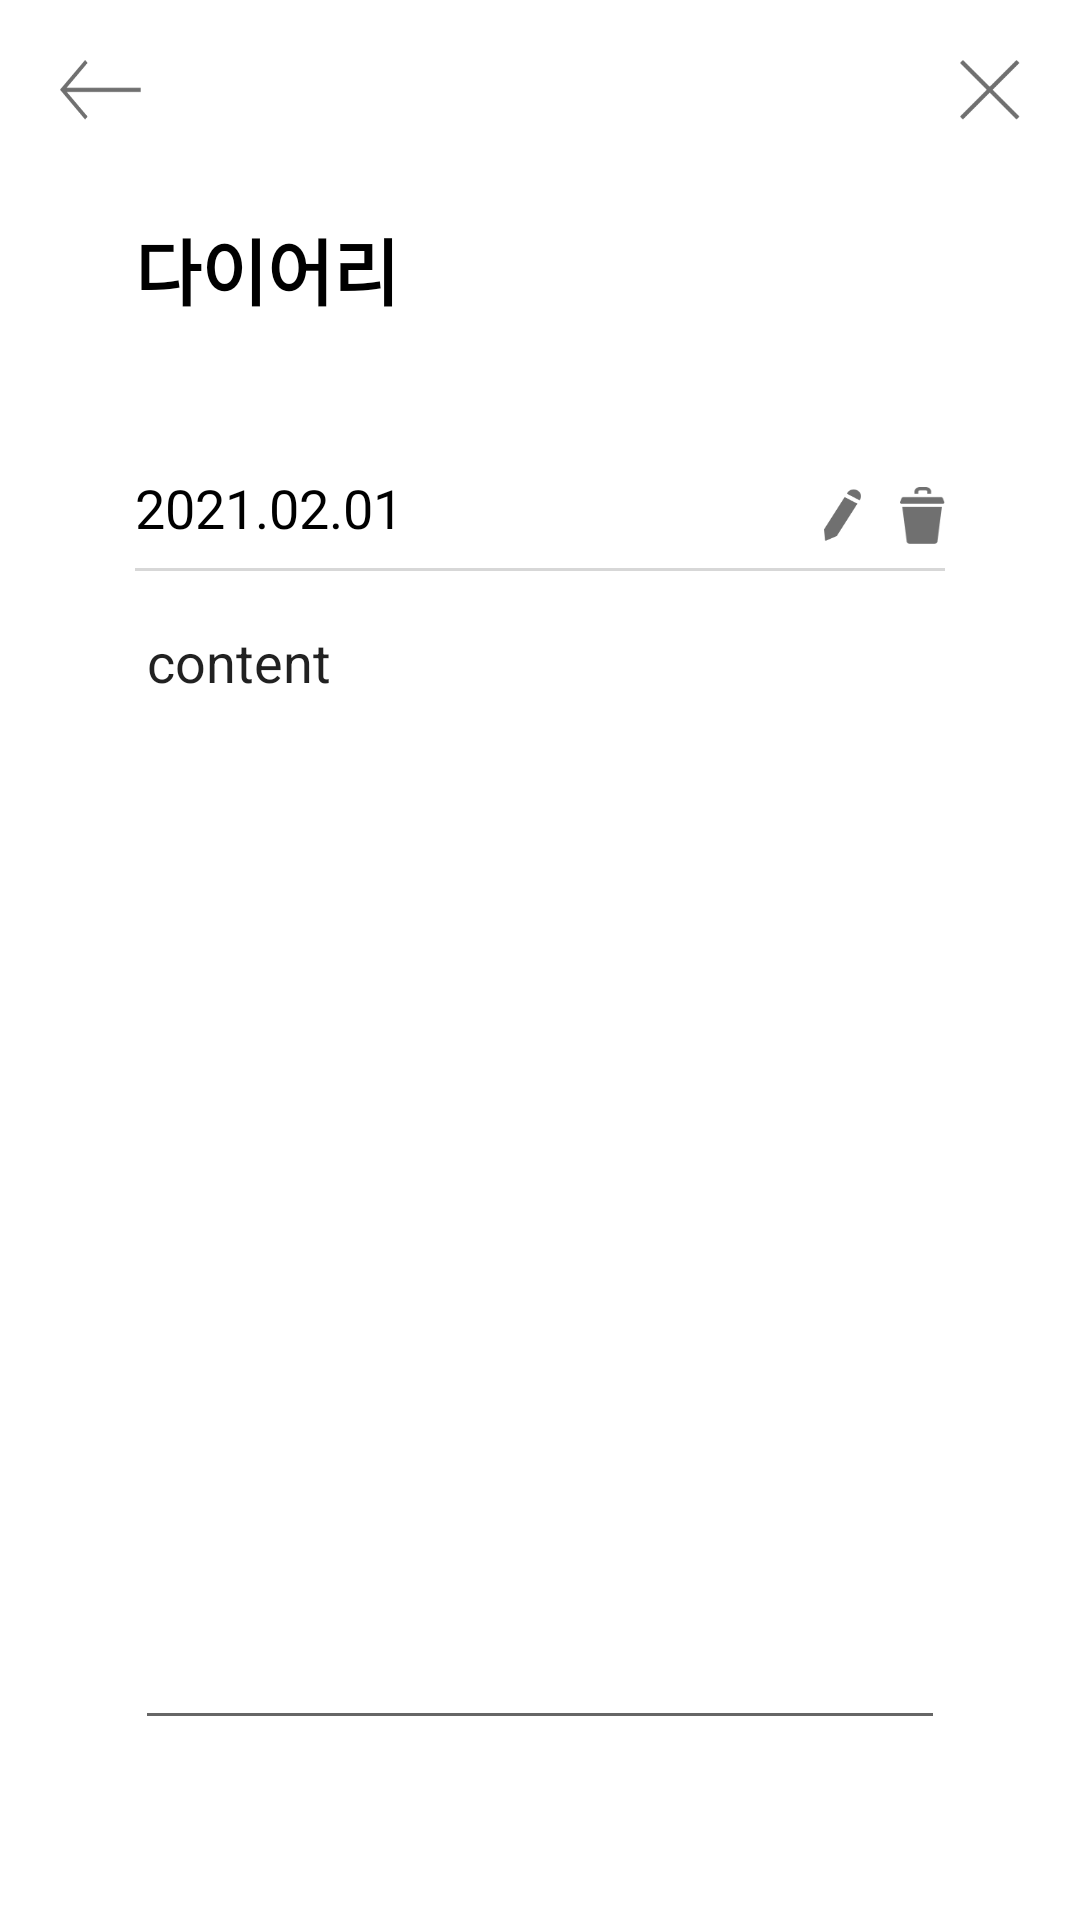

Named icons in this screenshot (1080x1920) and their centers, (x=x, y=y):
back: (x=100, y=89)
delete: (x=922, y=515)
edit: (x=842, y=515)
